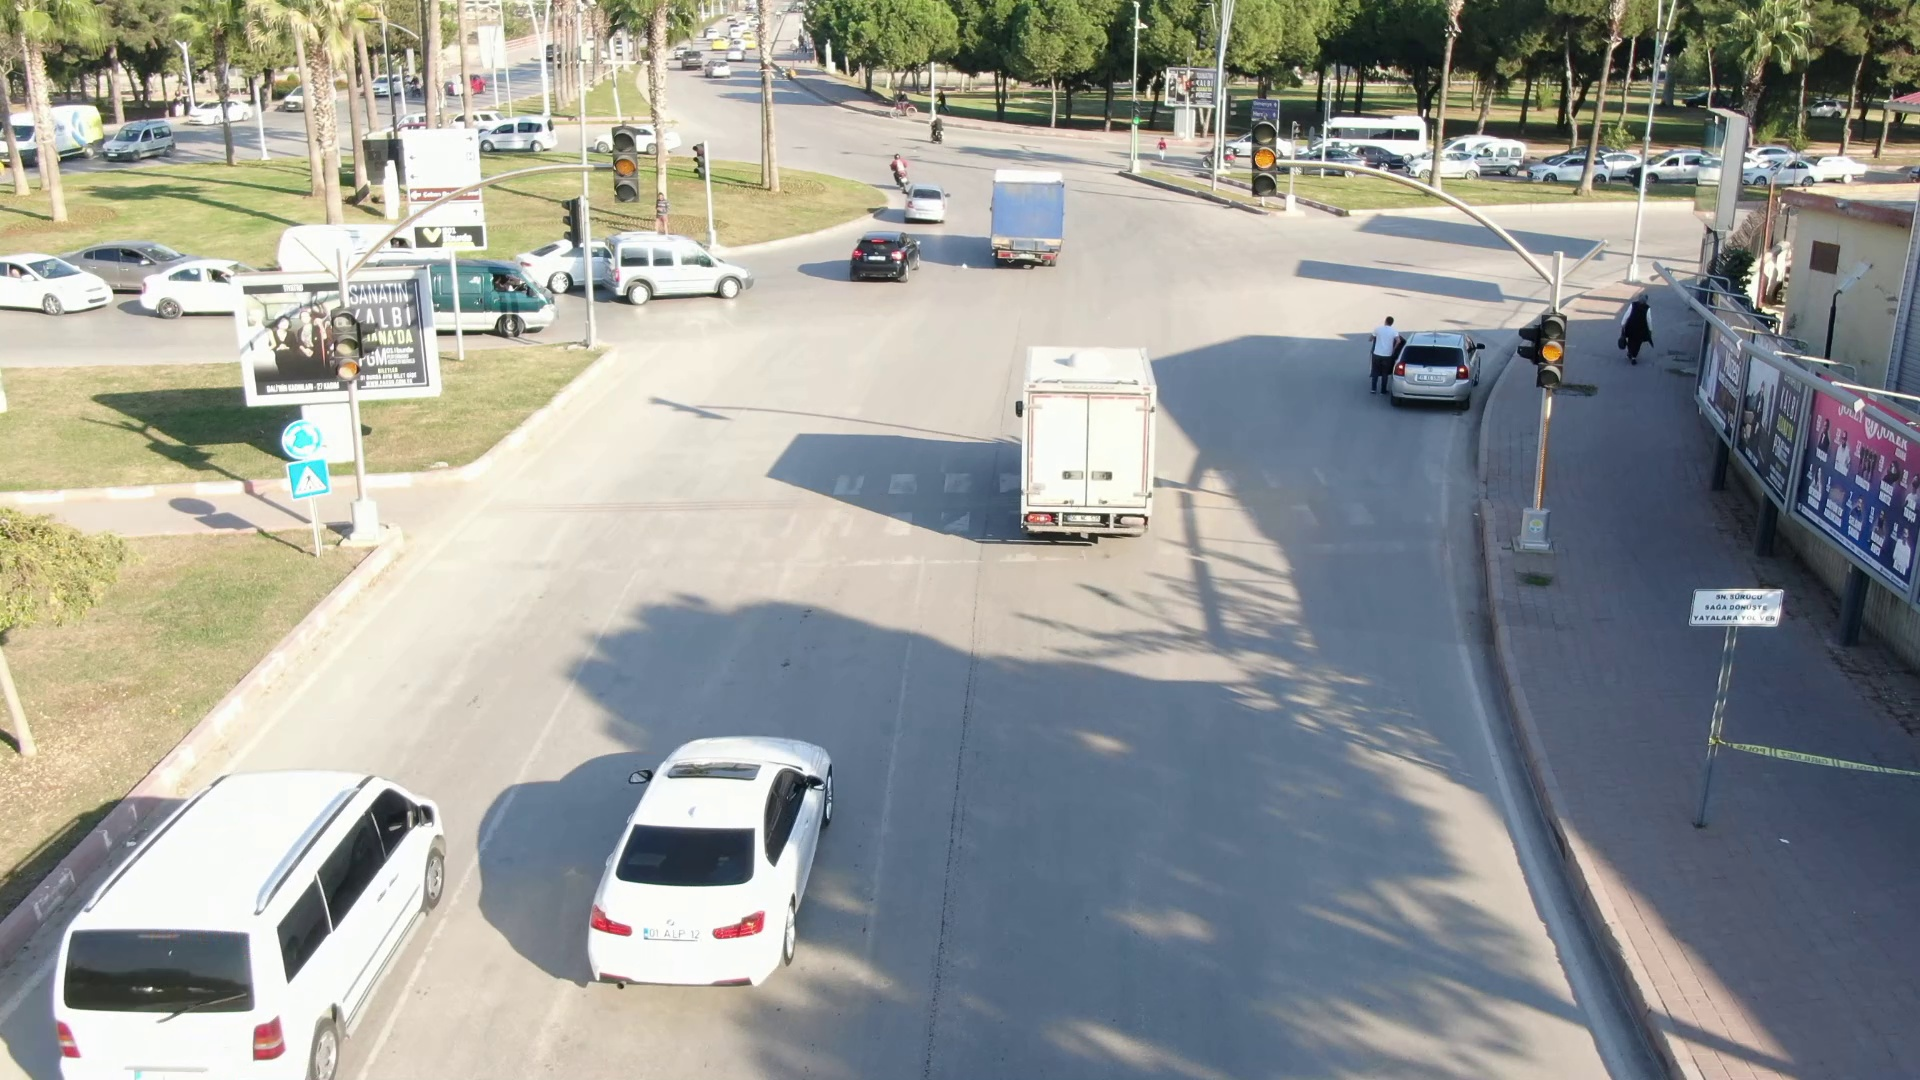car: (45, 719, 464, 1080), (569, 719, 851, 1004), (989, 329, 1186, 554), (596, 226, 761, 306), (1396, 322, 1489, 413), (1, 254, 113, 321), (95, 108, 186, 170), (840, 224, 920, 288), (902, 185, 950, 226)
person: (1612, 290, 1659, 369), (1363, 309, 1399, 396)
